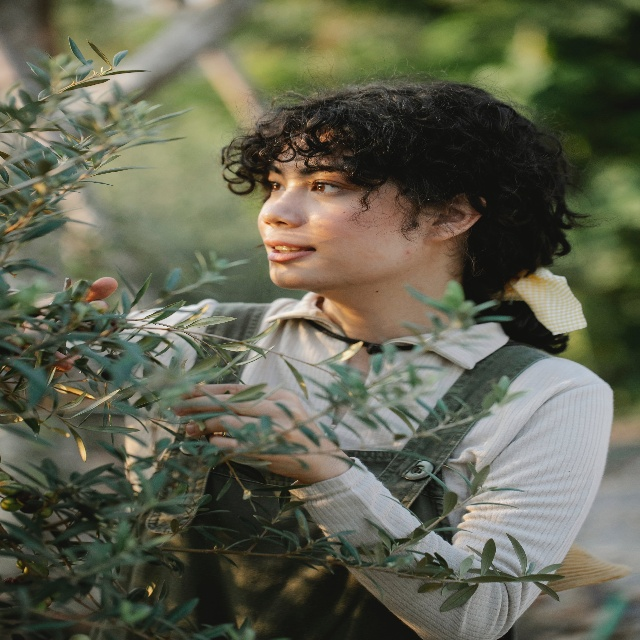Sin_guantes: (172, 383, 324, 483)
